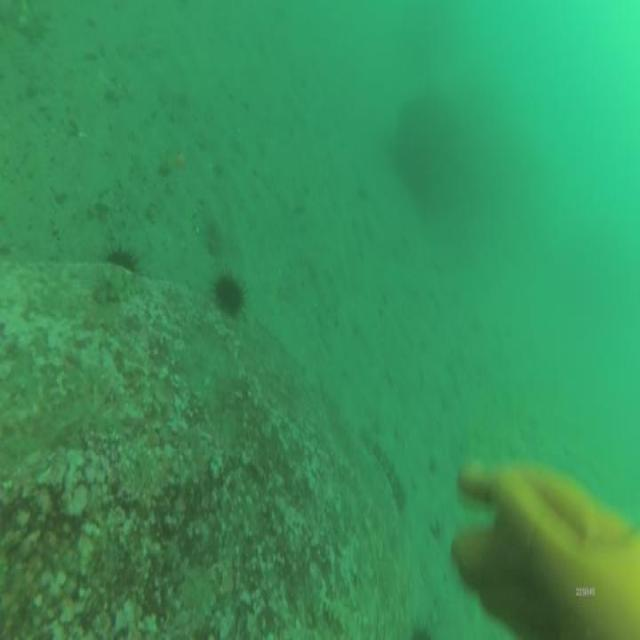echinus: (211, 262, 249, 324), (103, 236, 146, 276)
holothurian: (358, 428, 411, 522)
